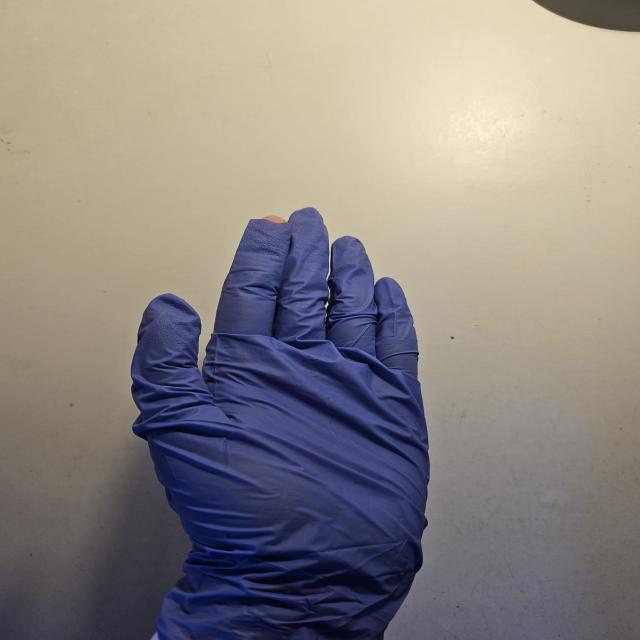gloves_damaged: (133, 208, 432, 625)
